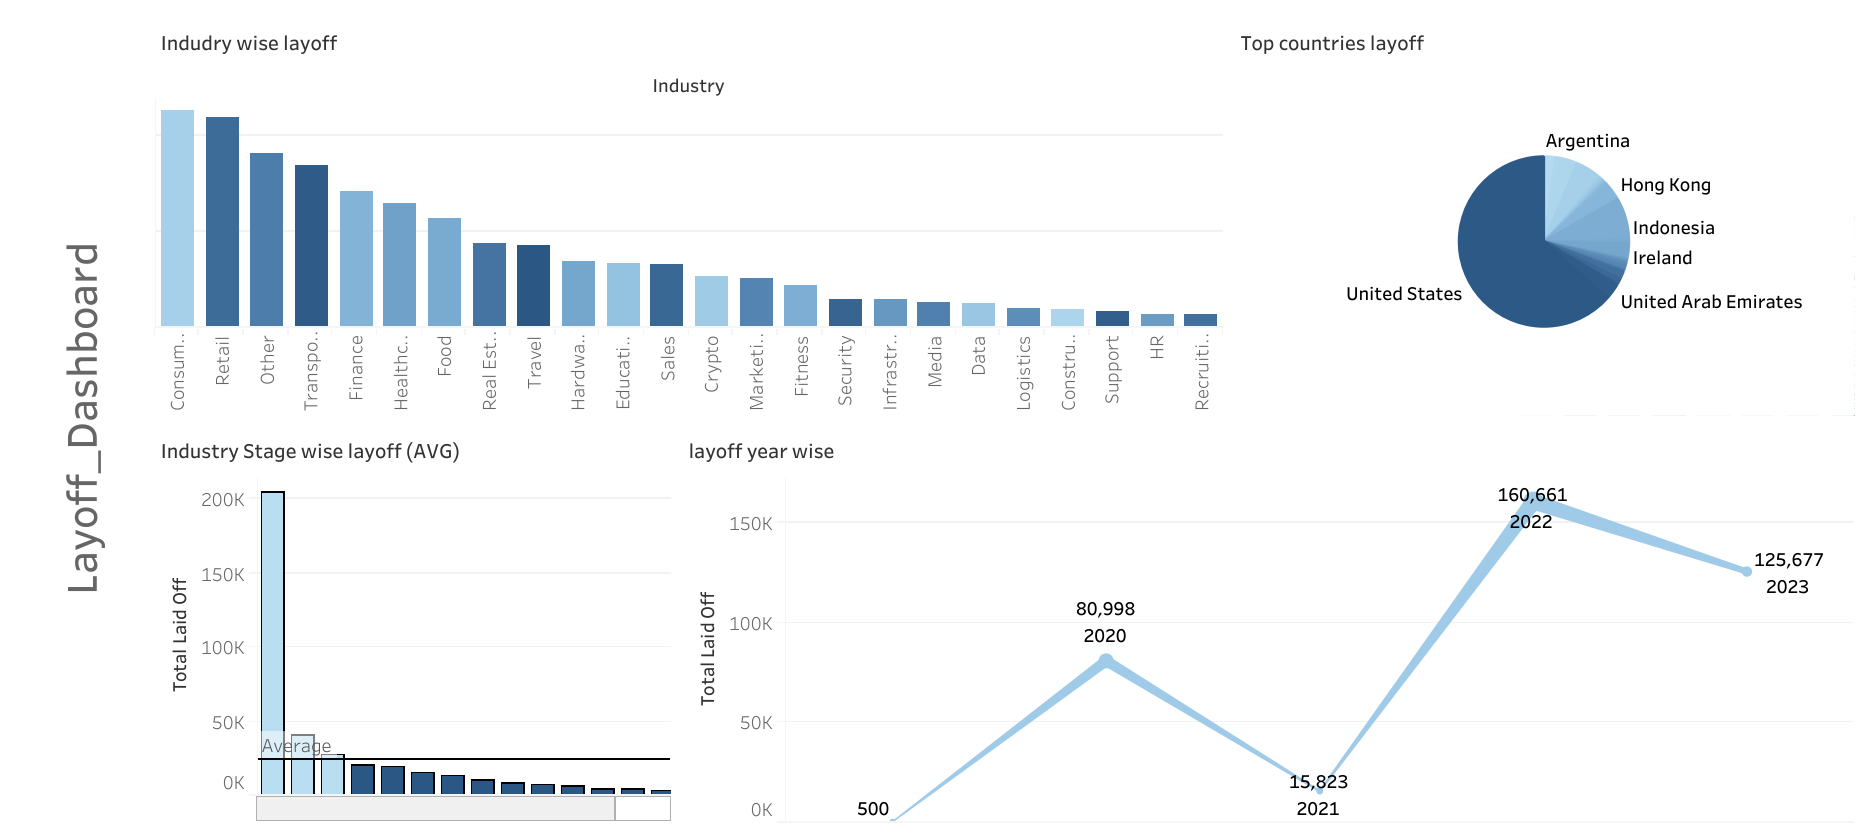

This screenshot's page, from the dashboard's own definition file:
{"tool":"tableau","page":{"name":"Dashboard 2","canvas":[1000,1000],"units":"permille","ordinal":1},"visuals":[{"type":"text","box":[5,10.7,73.6,978.6]},{"type":"worksheet","title":"Sheet 4","mark":"Bar","rows":["total_laid_off"],"cols":["industry"],"box":[78.5,10.7,578.6,489.3]},{"type":"worksheet","title":"Sheet 6","mark":"Pie","box":[657.1,10.7,337.9,489.3]},{"type":"worksheet","title":"Sheet 5","mark":"Bar","rows":["total_laid_off"],"cols":["stage"],"box":[78.5,500,282.4,489.3]},{"type":"worksheet","title":"Sheet 1","mark":"Line","rows":["total_laid_off"],"cols":["Years"],"box":[361,500,634,489.3]}]}

Visuals, with their boxes on the dashboard's canvas, which has no fixed pixel size, in thousandths of its width and height (x1, y1, x2, y2). These are canvas units, not pixel positions in the 1869x839 screenshot, which may show the page scaled, cropped or inside an application window:
text: [5,11,79,989]
"Sheet 4" worksheet (Bar marks): [78,11,657,500]
"Sheet 6" worksheet (Pie marks): [657,11,995,500]
"Sheet 5" worksheet (Bar marks): [78,500,361,989]
"Sheet 1" worksheet (Line marks): [361,500,995,989]
